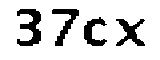3: (11, 5, 42, 50)
7: (48, 3, 78, 53)
c: (81, 16, 109, 49)
x: (111, 13, 147, 48)
